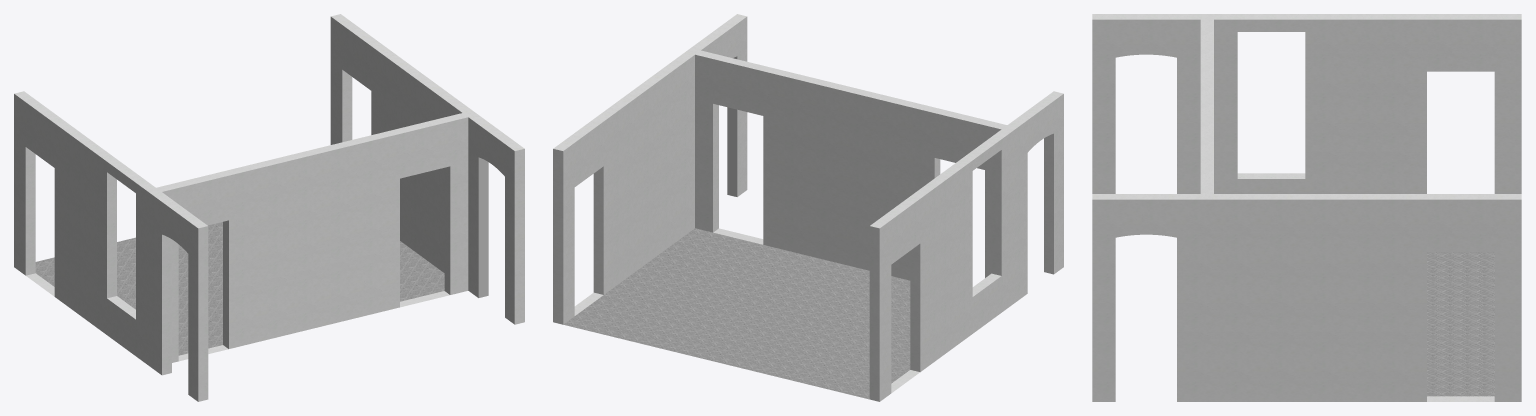
File: Ground floor public bedroom wall_20210830.gltf
The picture shows the model from 3 angles, left to right: view 1: azimuth 30°, elevation 25°; view 2: azimuth 150°, elevation 25°; view 3: azimuth 270°, elevation 25°; orthographic projection. The views are drawn at different scales.
Visible parts, largest first — view 1: root; view 2: root; view 3: root.
Boxes of the visible parts, x1,y1,x2,y2 form: root: (14,14,524,401); root: (553,14,1063,401); root: (1092,14,1521,401).
Size of the model in its own units: 6.5 by 3.3 by 6.35.
3 materials, 2 textured.
